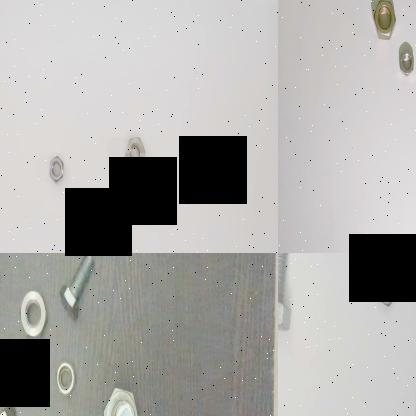Bolts: (57, 253, 99, 327), (96, 375, 144, 416), (278, 253, 295, 338)
NUTS: (17, 279, 48, 347), (370, 262, 407, 308), (51, 354, 79, 399), (94, 210, 121, 253), (122, 134, 148, 174), (371, 0, 396, 40), (46, 150, 66, 186), (396, 45, 414, 80), (0, 395, 18, 416)
